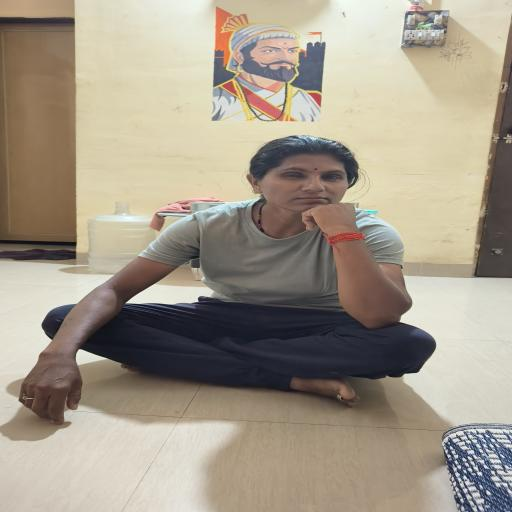survivor: (18, 135, 437, 425)
